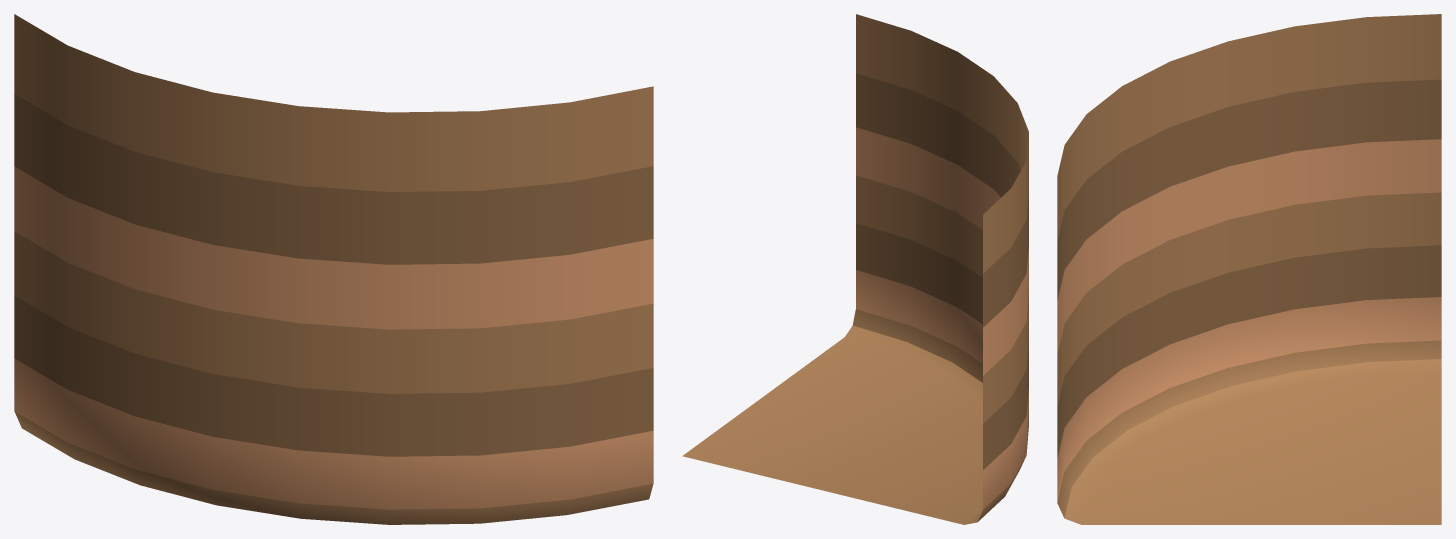
The model's file is platform_grass_corner_round_bottom_tall.gltf.
The picture shows the model from 3 angles, left to right: view 1: azimuth 30°, elevation 25°; view 2: azimuth 150°, elevation 25°; view 3: azimuth 270°, elevation 25°; orthographic projection. The views are drawn at different scales.
Parts seen in each view (by area): view 1: Cube_Grass_Corner_RoundBottom_Tall; view 2: Cube_Grass_Corner_RoundBottom_Tall; view 3: Cube_Grass_Corner_RoundBottom_Tall.
Boxes of the visible parts, box(x1,y1,x2,y2) form: Cube_Grass_Corner_RoundBottom_Tall: box(14, 14, 653, 524); Cube_Grass_Corner_RoundBottom_Tall: box(682, 14, 1028, 524); Cube_Grass_Corner_RoundBottom_Tall: box(1057, 14, 1441, 524).
Bounding box in the file's own units: 2 × 2 × 2.
